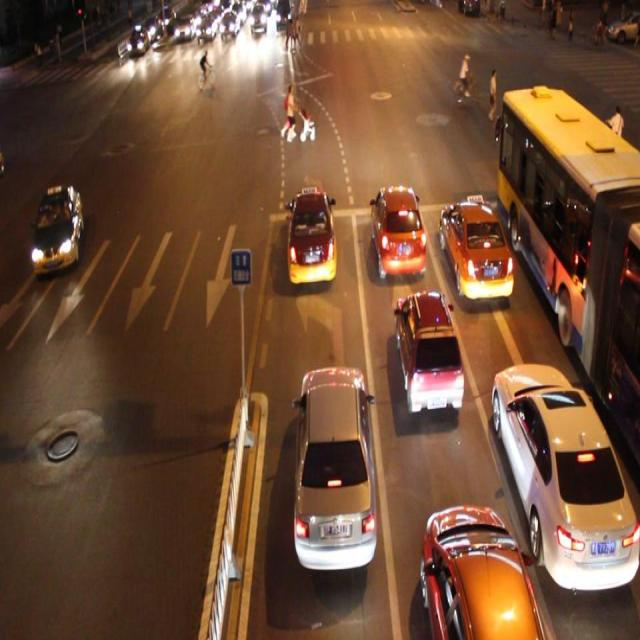car: (488, 360, 640, 593), (294, 362, 376, 572), (420, 501, 543, 640), (392, 288, 462, 416), (438, 199, 512, 307), (369, 182, 426, 278), (284, 184, 337, 285), (32, 184, 82, 277)
van: (499, 84, 640, 458)
